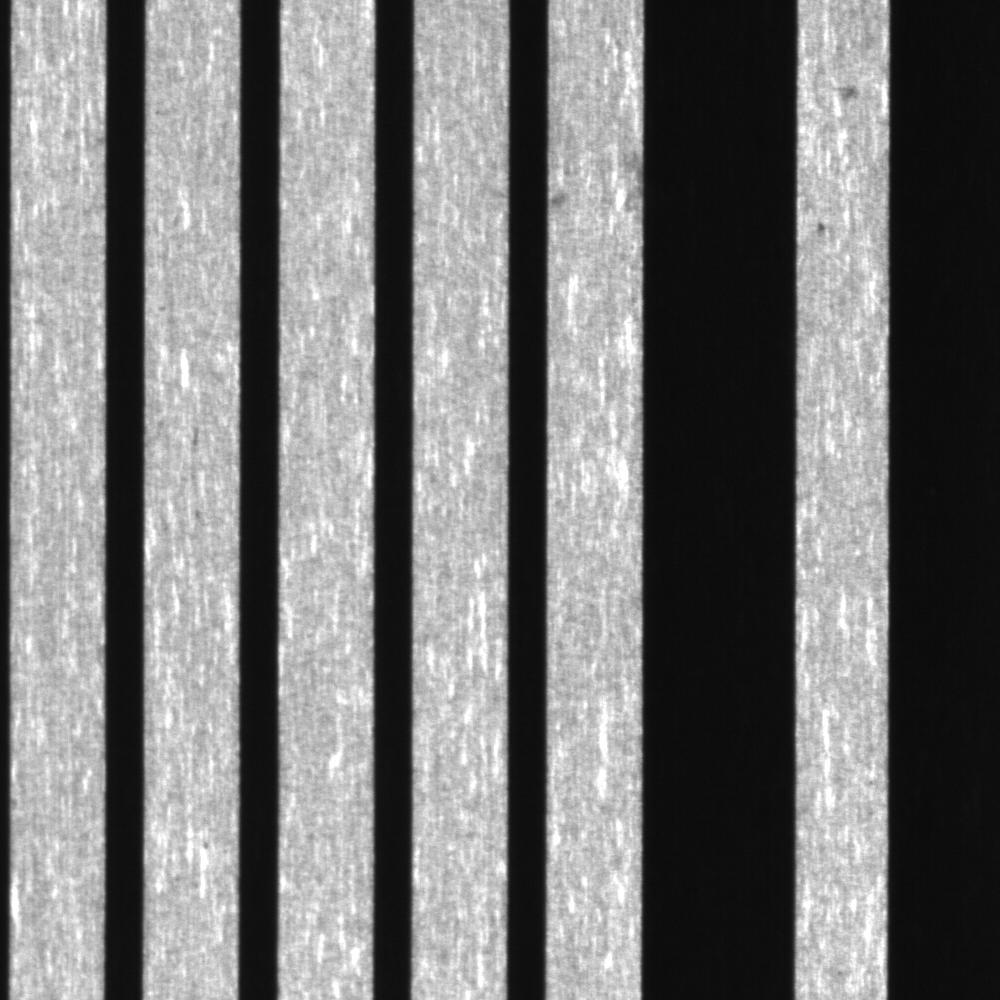Etching: (831, 69, 868, 109), (546, 175, 573, 229)
Pinhole: (808, 207, 841, 255), (188, 496, 215, 531), (194, 832, 222, 857)
